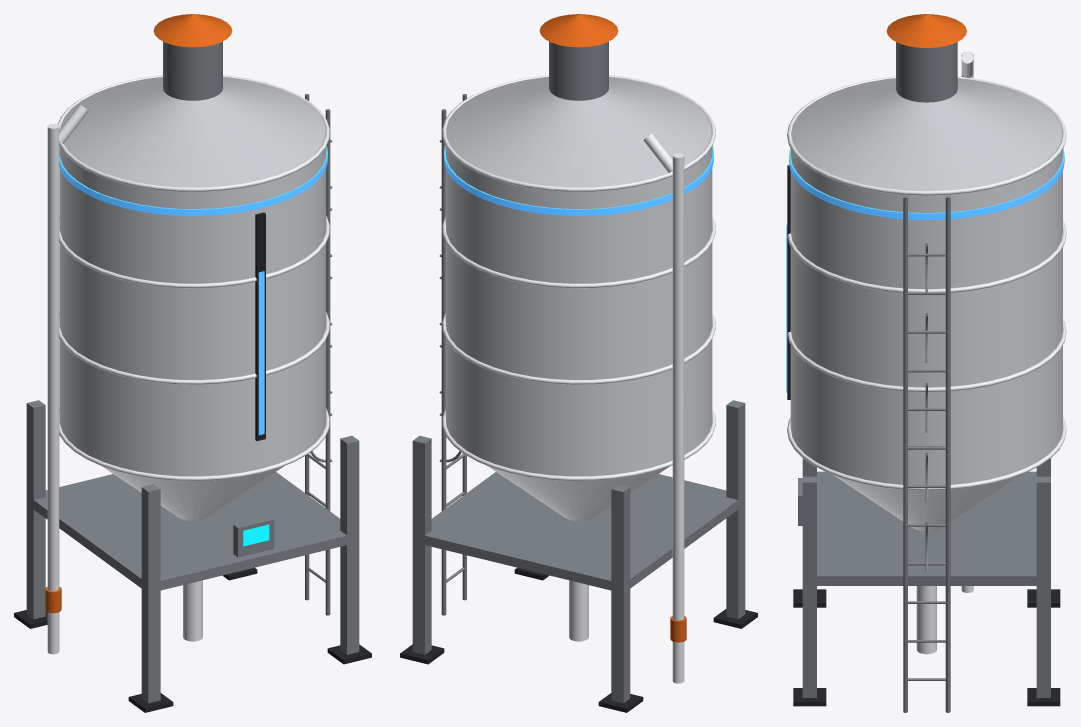
The model's file is silo-25t.glb.
3 views of the same model, side by side, from view 1: azimuth 30°, elevation 25°; view 2: azimuth 150°, elevation 25°; view 3: azimuth 270°, elevation 25° (orthographic). The views are drawn at different scales.
Parts seen in each view (by area): view 1: SimReady_Flour_Silo_25t, anim_pulse; view 2: SimReady_Flour_Silo_25t; view 3: SimReady_Flour_Silo_25t.
Part boxes in pixels (box(x1,y1,x2,y2)): SimReady_Flour_Silo_25t: box(14, 14, 371, 712); anim_pulse: box(258, 271, 264, 435); SimReady_Flour_Silo_25t: box(400, 14, 757, 712); SimReady_Flour_Silo_25t: box(787, 14, 1066, 712).
Size of the model in its own units: 2.64 by 5.93 by 2.37.
